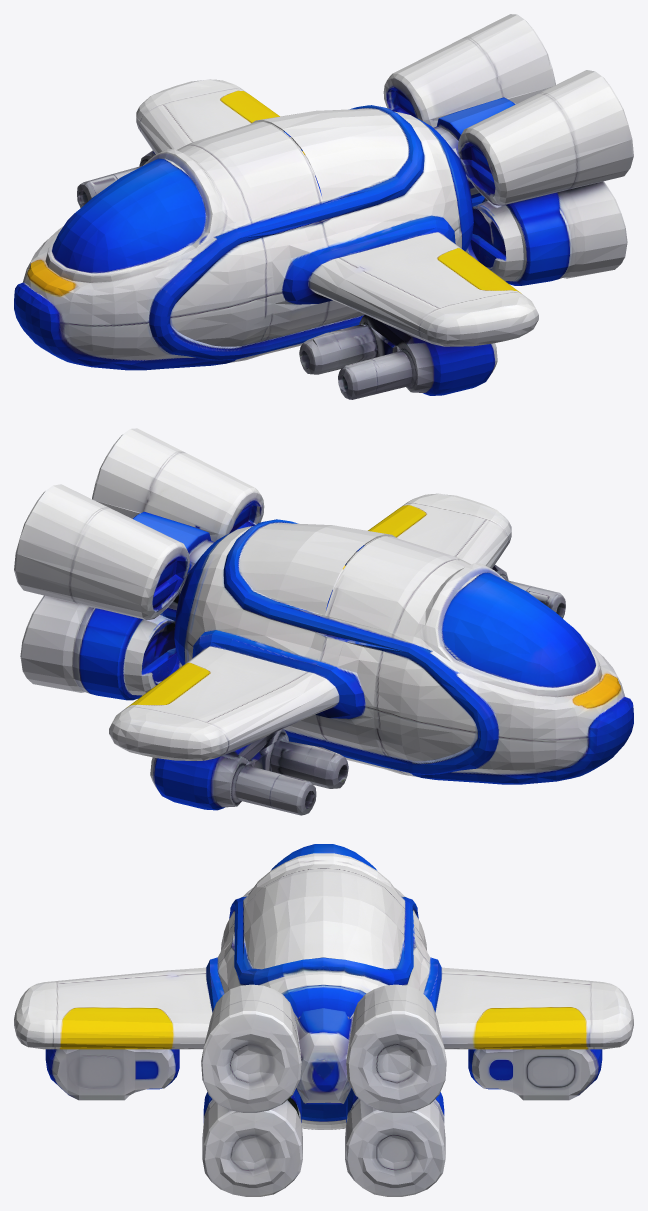
Rendered from Meshy_AI_Azure_Voyager_0703084750_texture.glb.
The picture shows the model from 3 angles, top to bottom: view 1: azimuth 30°, elevation 25°; view 2: azimuth 150°, elevation 25°; view 3: azimuth 270°, elevation 25°; orthographic projection. The views are drawn at different scales.
Size of the model in its own units: 1.87 by 0.728 by 1.91.
1 material, 1 textured.
